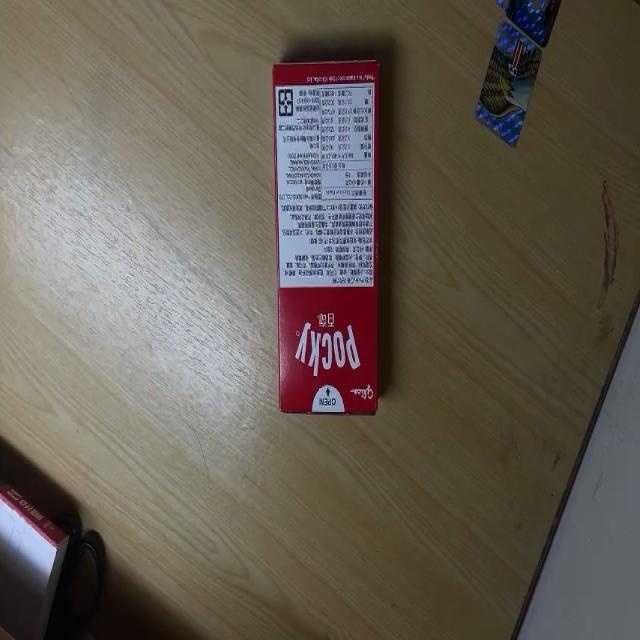Pocky: (273, 61, 378, 416)
